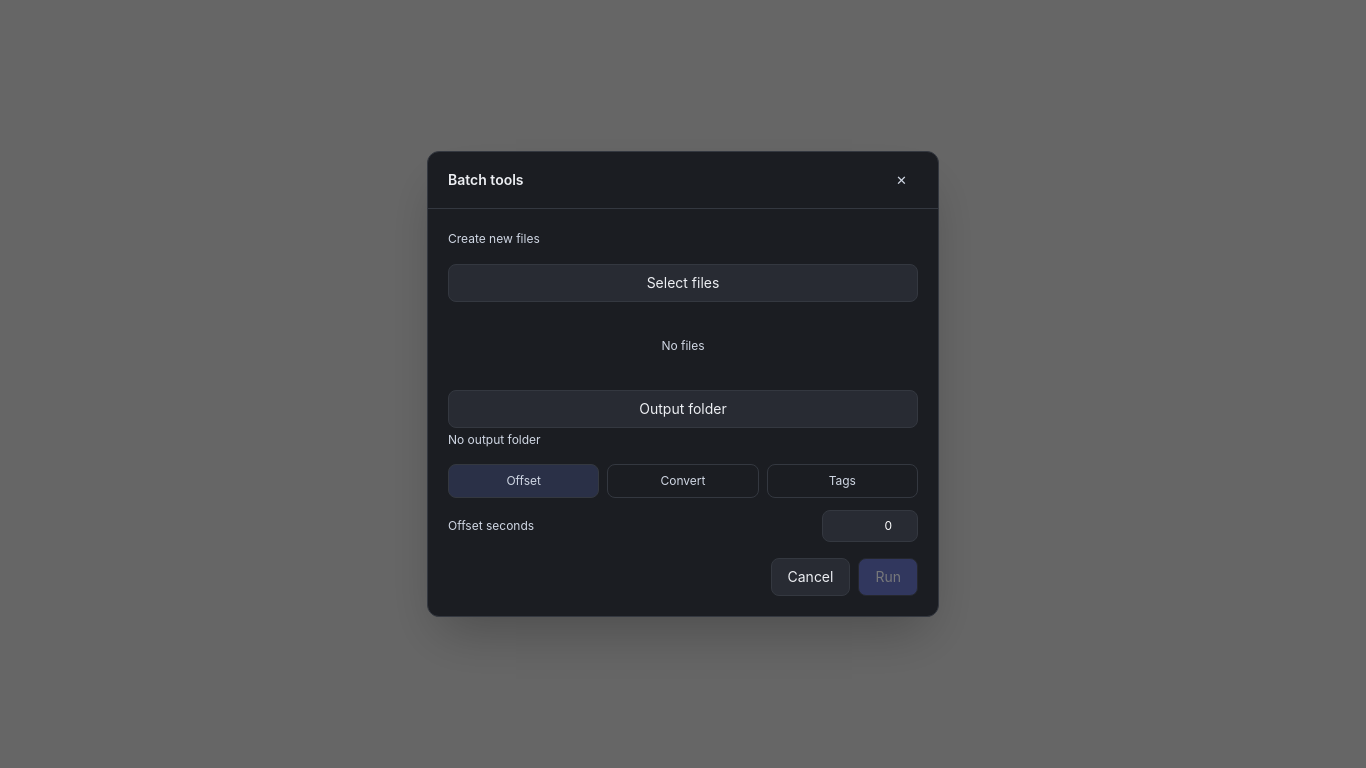
shows preflight failures without leaving the dialog running
This screenshot has width=1366, height=768.
Click the button "Select files" at [683, 283], box [448,264,918,302]
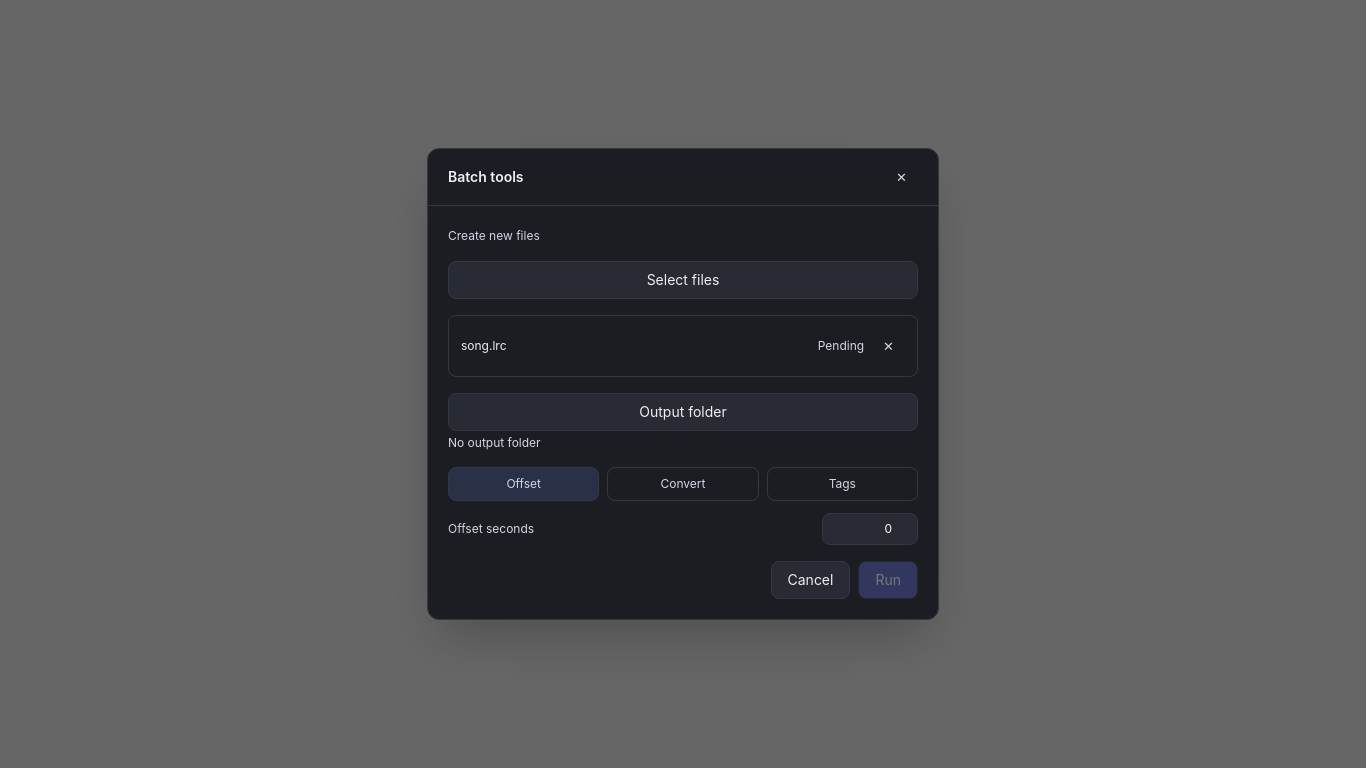
Check: the text "song.lrc" is shown, box [461,338,506,353]
Click the button "Output folder" at [683, 412], box [448,393,918,431]
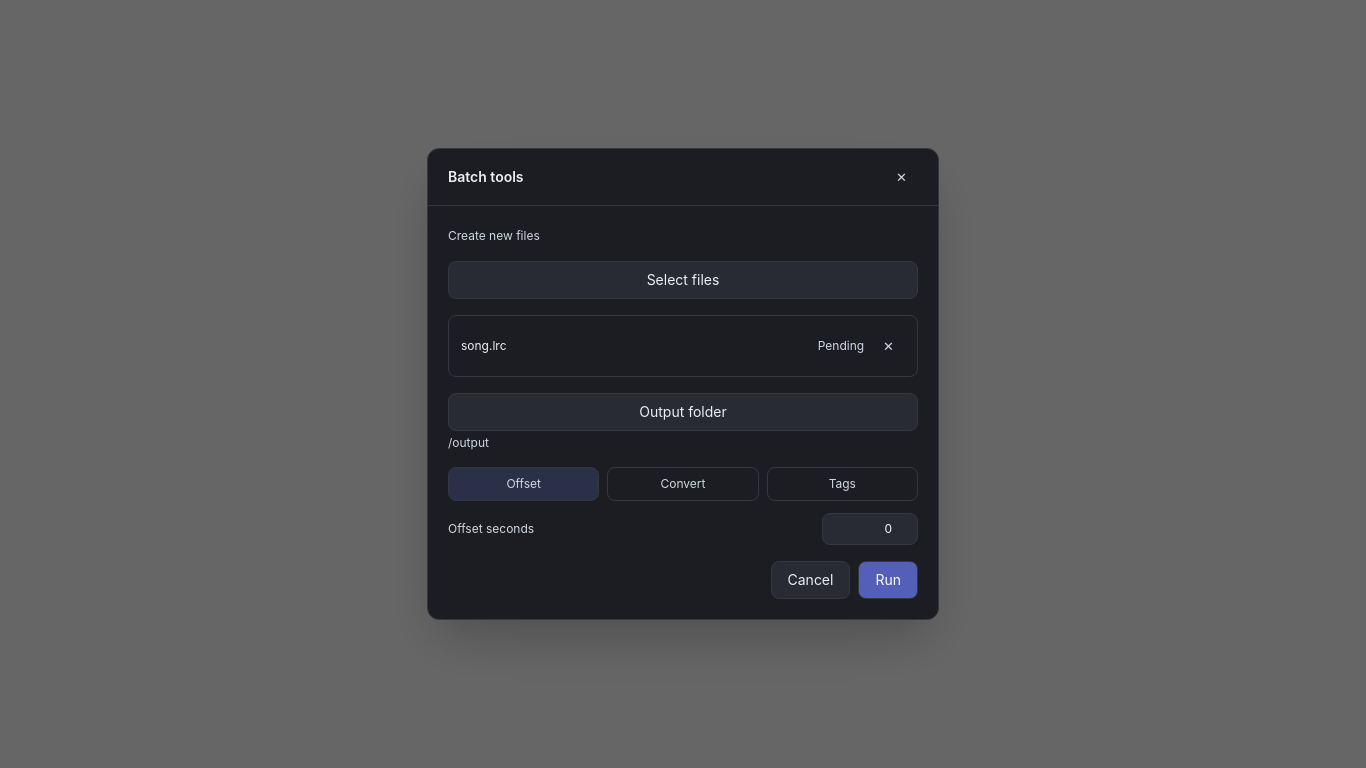
Check: the text "/output" is shown, box [448,435,489,450]
Click the button "Run" at [888, 580], box [858,561,918,599]
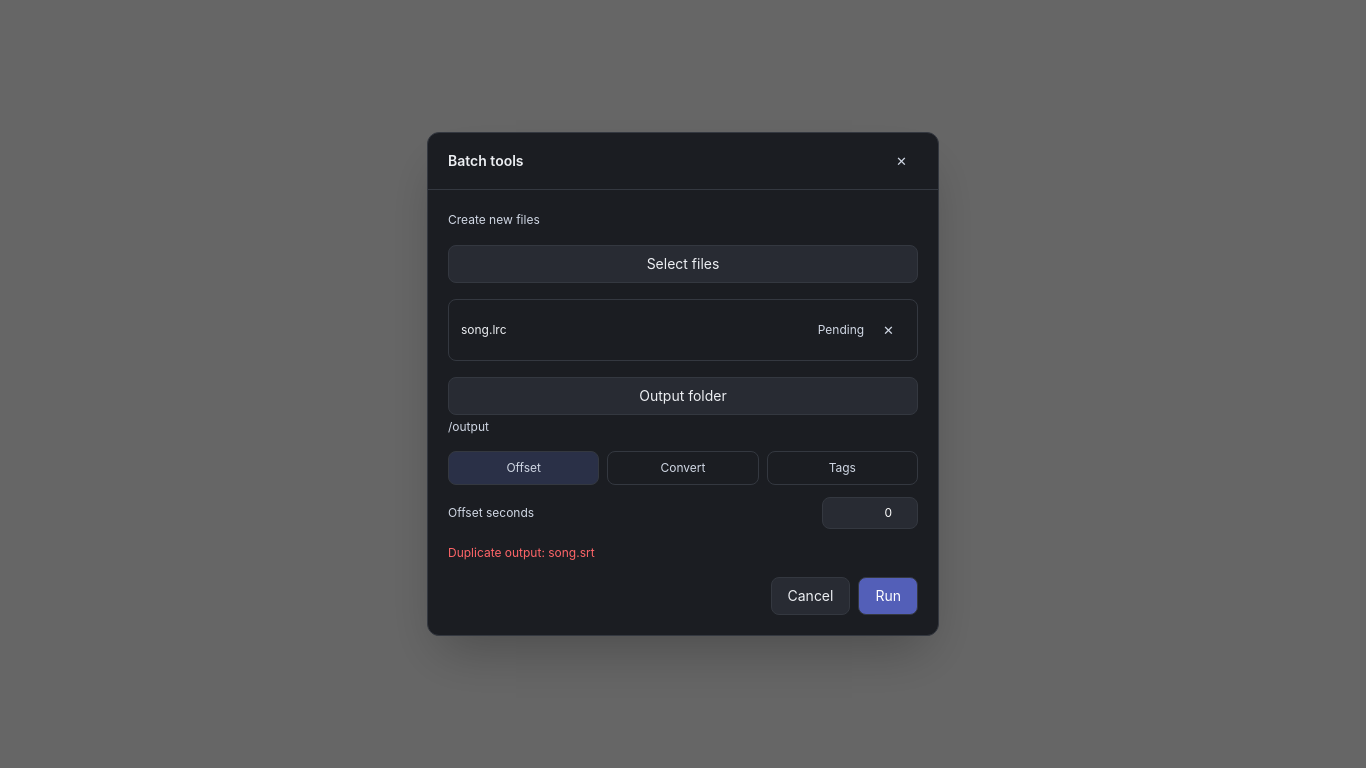
Check: the button "Select files" is enabled, box [448,245,918,283]
Check: the message reads "Duplicate output: song.srt", box [448,545,595,560]
